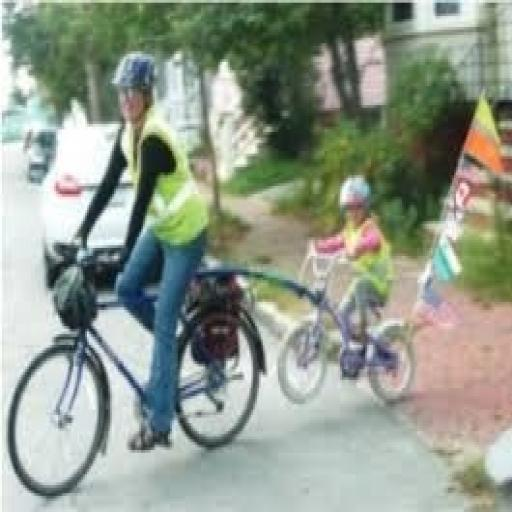cycling: (70, 48, 212, 456), (307, 172, 398, 378)
